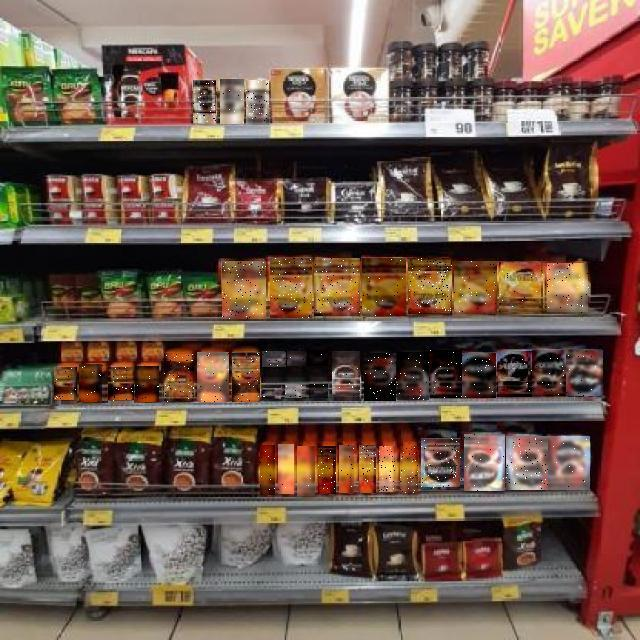Coffee: (314, 259, 360, 317), (362, 258, 406, 316), (222, 261, 266, 319), (270, 259, 312, 319), (408, 258, 452, 314), (464, 434, 505, 491), (454, 261, 497, 314), (548, 436, 590, 490), (506, 436, 548, 490), (499, 262, 543, 312), (422, 438, 464, 490), (548, 264, 590, 314), (566, 350, 603, 396), (497, 351, 532, 397), (197, 352, 229, 402), (532, 350, 566, 396), (430, 351, 462, 399), (397, 352, 429, 400), (364, 353, 396, 401), (462, 353, 496, 398), (164, 353, 194, 402), (232, 352, 260, 402), (332, 352, 360, 400), (221, 79, 245, 124), (246, 80, 269, 125), (193, 81, 216, 125), (108, 368, 134, 404), (80, 364, 104, 402), (297, 446, 315, 496), (135, 367, 159, 403), (319, 446, 337, 494), (400, 446, 418, 494), (54, 368, 77, 404), (359, 445, 376, 493), (278, 444, 294, 494), (340, 445, 356, 493), (260, 445, 275, 495), (380, 446, 396, 492), (262, 351, 286, 367), (307, 351, 328, 367), (262, 385, 281, 400), (287, 351, 305, 366), (309, 384, 328, 398), (286, 385, 304, 399)
